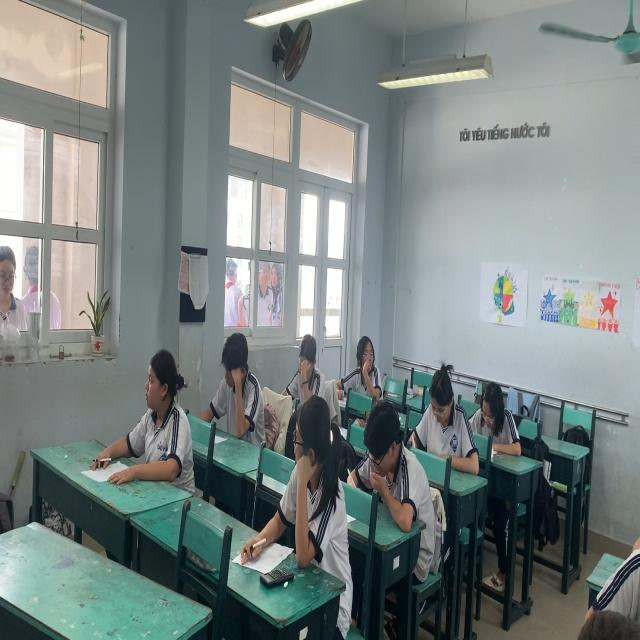cheating: (274, 395, 351, 575), (347, 323, 382, 399)
not_cheating: (129, 341, 188, 485), (359, 392, 418, 530), (417, 360, 476, 485), (468, 368, 524, 471), (216, 330, 266, 436), (287, 323, 330, 402)
